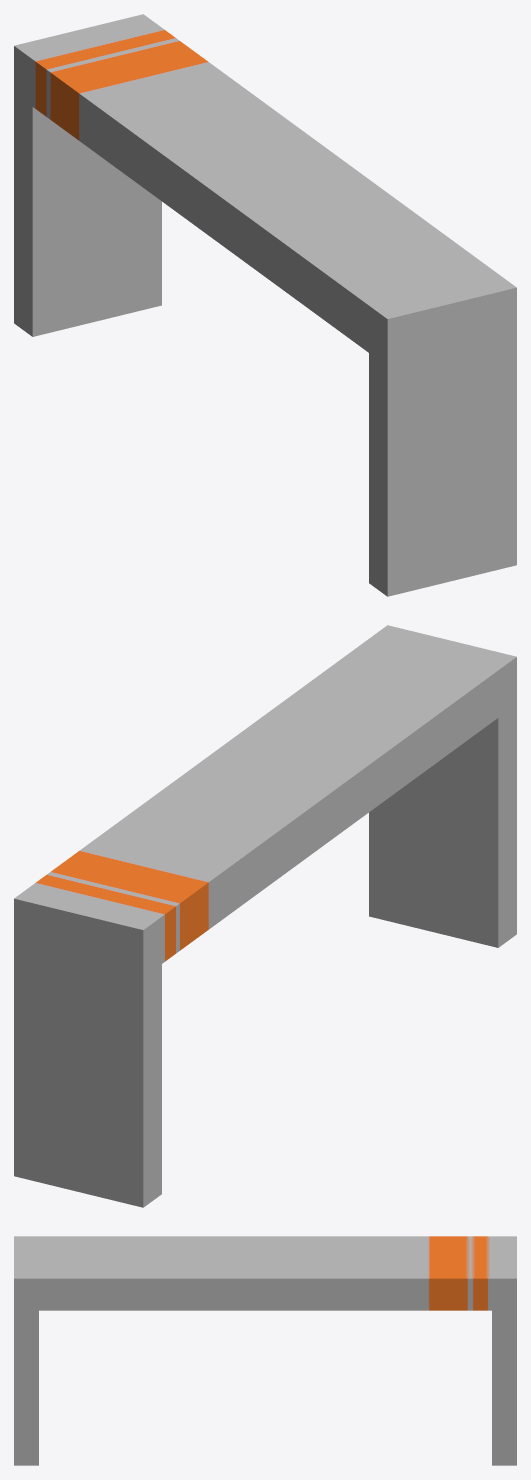
File: xTraUrgent Dropoff.glb
The picture shows the model from 3 angles, top to bottom: view 1: azimuth 30°, elevation 25°; view 2: azimuth 150°, elevation 25°; view 3: azimuth 270°, elevation 25°; orthographic projection. The views are drawn at different scales.
Parts seen in each view (by area): view 1: dropoff-col; view 2: dropoff-col; view 3: dropoff-col.
Part boxes in pixels (box(x1,y1,x2,y2)): dropoff-col: box(14, 14, 516, 596); dropoff-col: box(14, 625, 516, 1207); dropoff-col: box(14, 1236, 516, 1465).
Bounding box in the file's own units: 5 × 10.25 × 25.
1 material, 1 textured.
